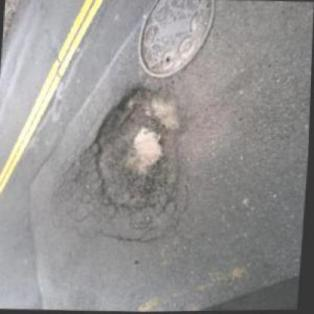Hueco: (86, 85, 186, 215)
